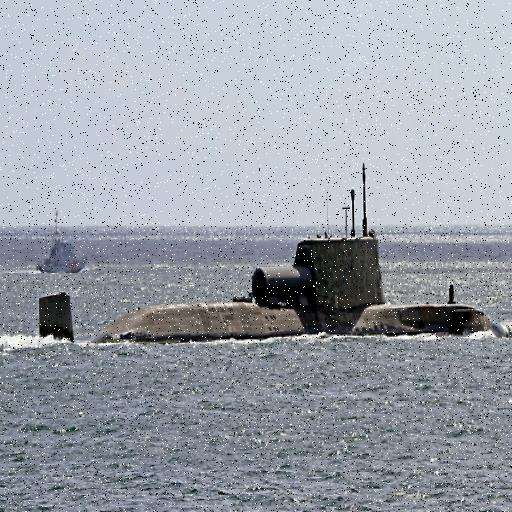submarine: (40, 163, 509, 344)
